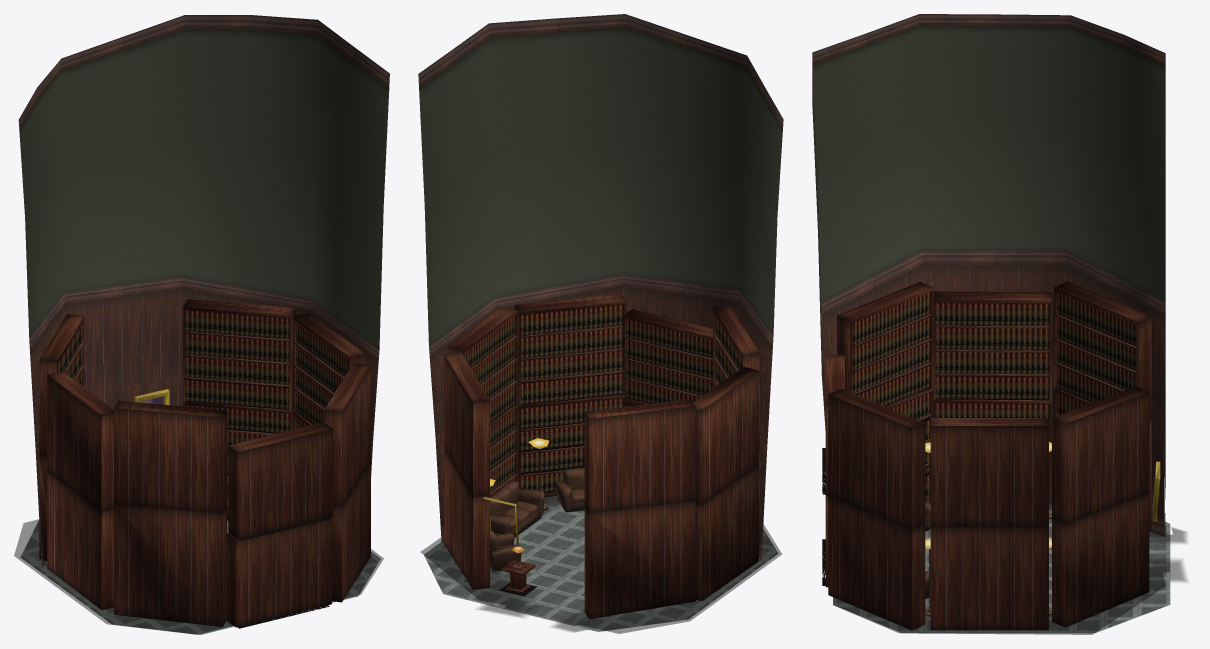
Rendered from room_2.glb.
3 renders of one model, left to right at view 1: azimuth 30°, elevation 25°; view 2: azimuth 150°, elevation 25°; view 3: azimuth 270°, elevation 25°, orthographic. The views are drawn at different scales.
Parts seen in each view (by area): view 1: room, Books_2, pCube1 (×2), Books_3, Books_6, Books_1, Books_5, Books_4, polySurface5, platform; view 2: room, Books_4, Books_1, Books_3, platform, Books_6, Books_5, polySurface5, polySurface1, Books_2, LB_couchA6, pCube1 (+2 smaller); view 3: room, Books_5, Books_6, Books_1, Books_3, Books_2, Books_4, platform, polySurface5, pCube1.
Part boxes in pixels (x1,y1,x2,y2): room: (18,15,389,567); Books_2: (114,400,227,626); pCube1 (×2): (227,422,333,627); Books_3: (47,371,113,610); Books_6: (183,299,296,475); Books_1: (324,363,370,602); Books_5: (293,312,365,429); Books_4: (39,314,84,561); polySurface5: (14,519,383,634); platform: (20,520,380,634); room: (418,14,783,560); Books_4: (584,399,695,619); Books_1: (514,294,625,497); Books_3: (693,367,758,601); platform: (424,496,778,631); Books_6: (444,352,489,589); Books_5: (447,306,517,495); polySurface5: (420,496,781,633); polySurface1: (626,319,712,403); Books_2: (713,306,759,554); LB_couchA6: (490,480,544,535); pCube1: (623,309,712,405); room: (812,14,1165,536); Books_5: (930,418,1048,630); Books_6: (1052,386,1149,627); Books_1: (828,388,925,630); Books_3: (933,291,1052,504); Books_2: (837,282,933,502); Books_4: (1053,281,1151,531); platform: (833,504,1170,633); polySurface5: (833,504,1186,634); pCube1: (825,355,844,496).
Size of the model in its own units: 72.2 by 110 by 76.02.
14 materials, 14 textured.
